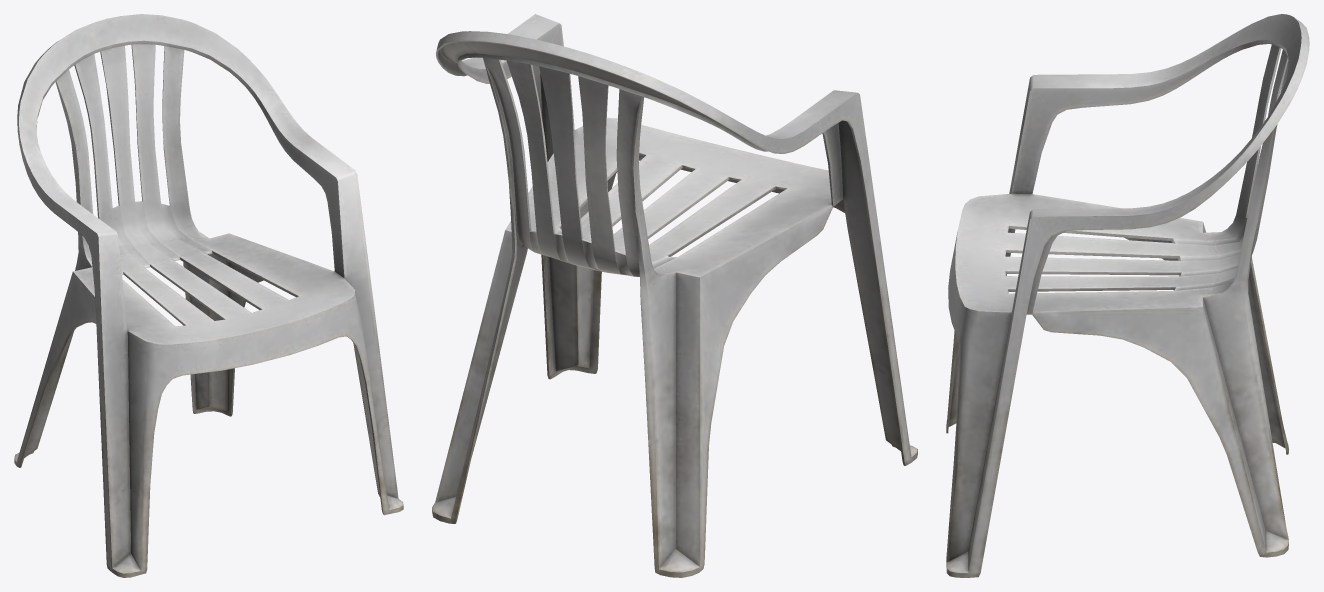
File: plastic_monobloc_chair_01.glb
3 views of the same model, side by side, from view 1: azimuth 30°, elevation 25°; view 2: azimuth 150°, elevation 25°; view 3: azimuth 270°, elevation 25° (orthographic). The views are drawn at different scales.
Parts seen in each view (by area): view 1: plastic_monobloc_chair_01; view 2: plastic_monobloc_chair_01; view 3: plastic_monobloc_chair_01.
Boxes of the visible parts, bbox=[...] form: plastic_monobloc_chair_01: bbox=[14, 14, 403, 577]; plastic_monobloc_chair_01: bbox=[432, 14, 917, 577]; plastic_monobloc_chair_01: bbox=[946, 14, 1309, 577].
Bounding box in the file's own units: 0.6419 × 0.8798 × 0.6276.
Materials: 1 (1 with a texture image).
